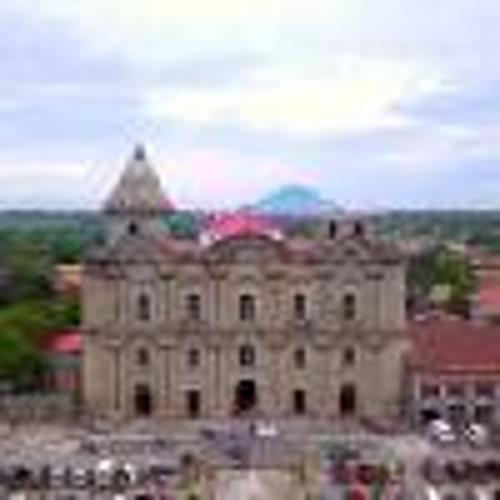Taal Basilica Church: (65, 126, 416, 443)
